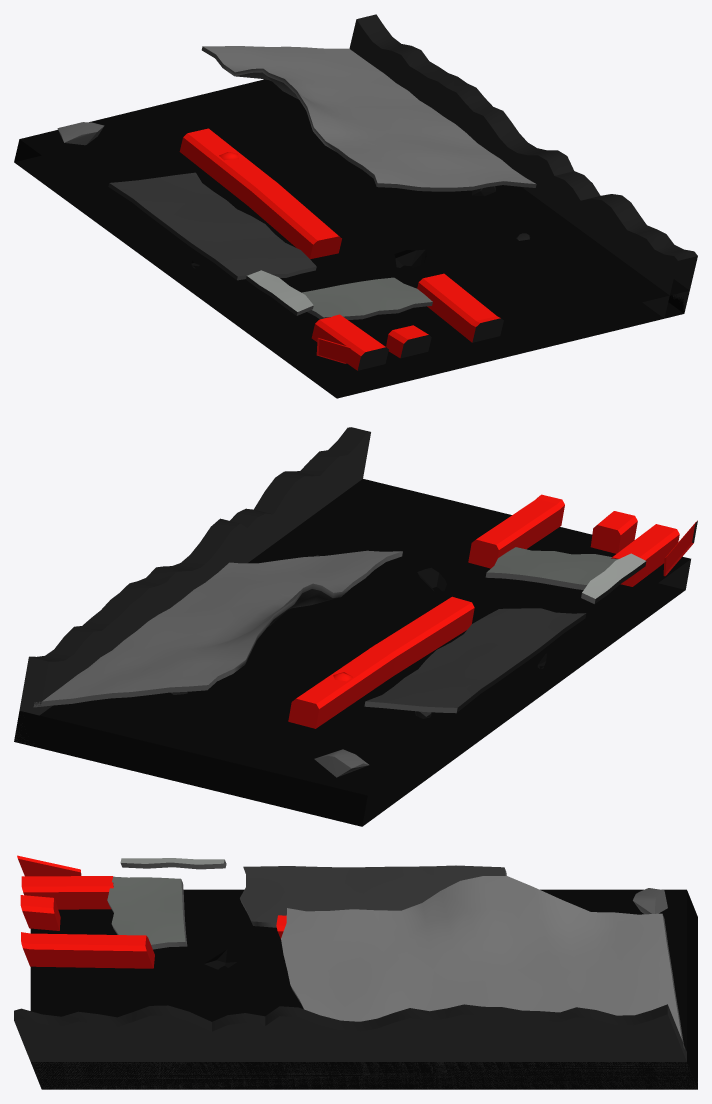
The model's file is roof_hangar_mr_wreck.glb.
The picture shows the model from 3 angles, top to bottom: view 1: azimuth 30°, elevation 25°; view 2: azimuth 150°, elevation 25°; view 3: azimuth 270°, elevation 25°; orthographic projection.
Parts seen in each view (by area): view 1: roof_hangar_mr_wreck; view 2: roof_hangar_mr_wreck; view 3: roof_hangar_mr_wreck.
Boxes of the visible parts, x1=… form: roof_hangar_mr_wreck: x1=14, y1=14, x2=697, y2=398; roof_hangar_mr_wreck: x1=14, y1=427, x2=697, y2=826; roof_hangar_mr_wreck: x1=14, y1=855, x2=697, y2=1089.
Bounding box in the file's own units: 17.4 × 5.78 × 29.18.
